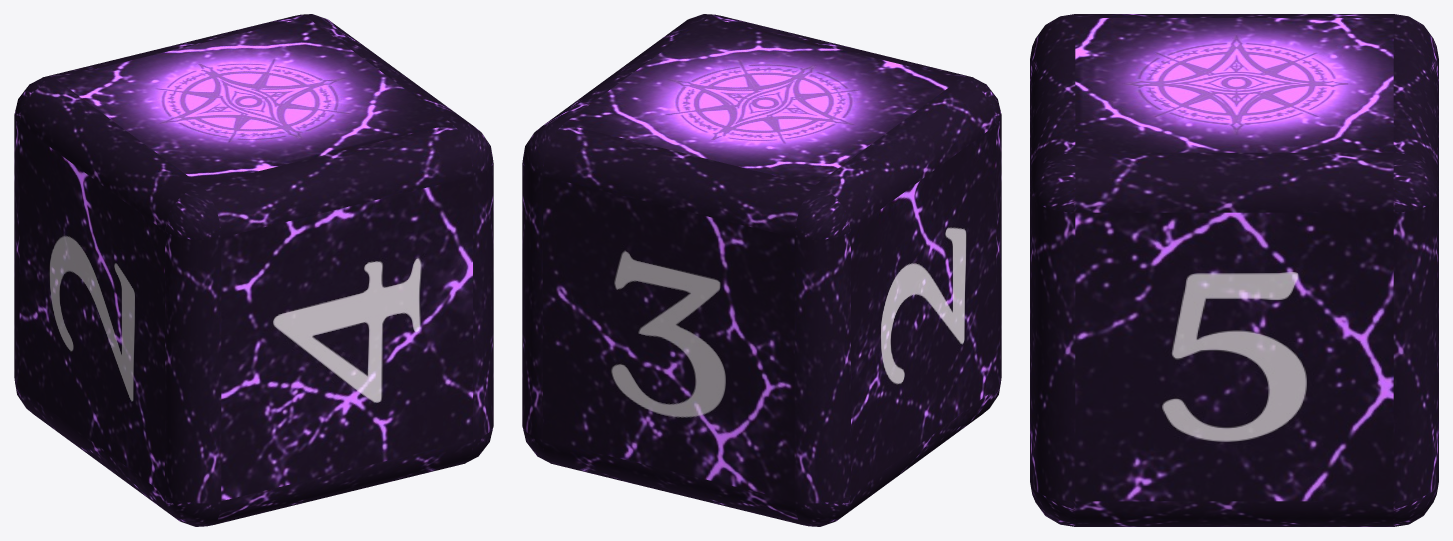
The model's file is d6_path_mind.glb.
3 views of the same model, side by side, from view 1: azimuth 30°, elevation 25°; view 2: azimuth 150°, elevation 25°; view 3: azimuth 270°, elevation 25° (orthographic). The views are drawn at different scales.
Visible parts, largest first — view 1: d6; view 2: d6; view 3: d6.
Boxes of the visible parts, box(x1,y1,x2,y2) form: d6: box(14, 14, 493, 526); d6: box(522, 14, 1001, 526); d6: box(1030, 14, 1438, 526).
Bounding box in the file's own units: 104 × 104 × 104.
Materials: 1 (1 with a texture image).
